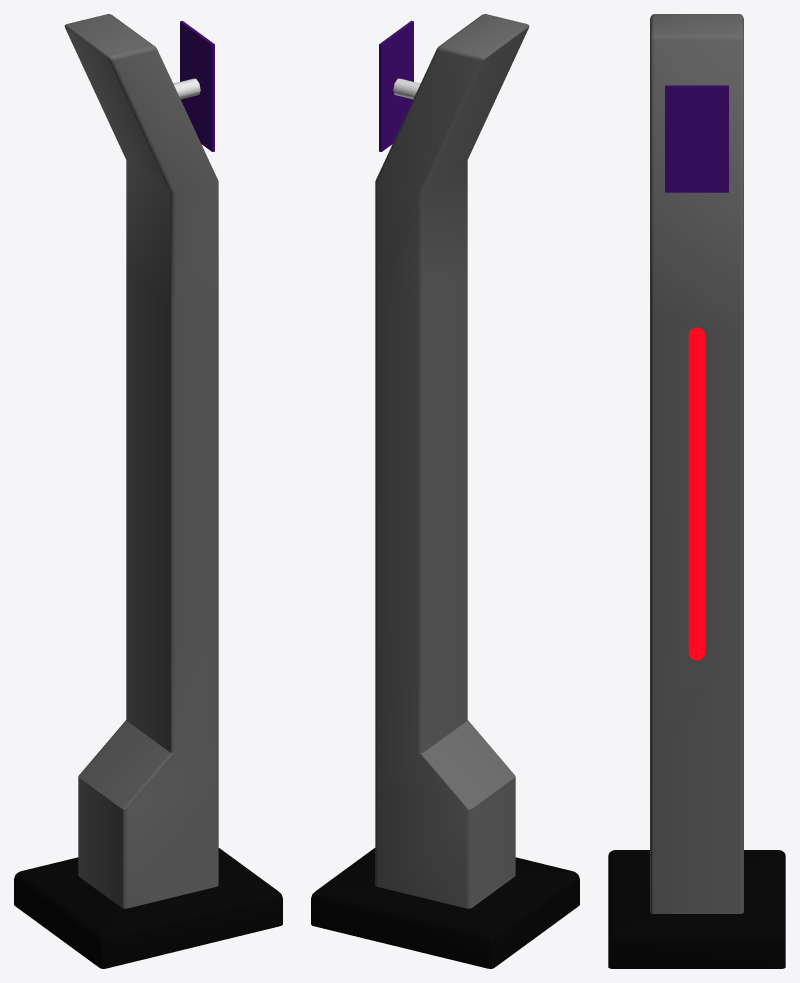
The model's file is Стойка считывателя.fbx.
The picture shows the model from 3 angles, left to right: view 1: azimuth 30°, elevation 25°; view 2: azimuth 150°, elevation 25°; view 3: azimuth 270°, elevation 25°; orthographic projection.
Parts seen in each view (by area): view 1: Стойка напольная, Держатель.001; view 2: Стойка напольная, Держатель.001; view 3: Стойка напольная, Держатель.001.
Boxes of the visible parts, x1,y1,x2,y2 form: Стойка напольная: (14, 14, 282, 968); Держатель.001: (180, 20, 214, 151); Стойка напольная: (311, 14, 579, 968); Держатель.001: (379, 20, 413, 151); Стойка напольная: (608, 14, 785, 968); Держатель.001: (665, 85, 728, 192).
Bounding box in the file's own units: 0.2708 × 1.26 × 0.23.
